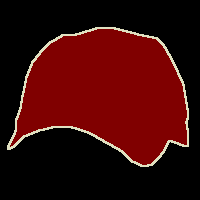hat: (8, 28, 188, 166)
